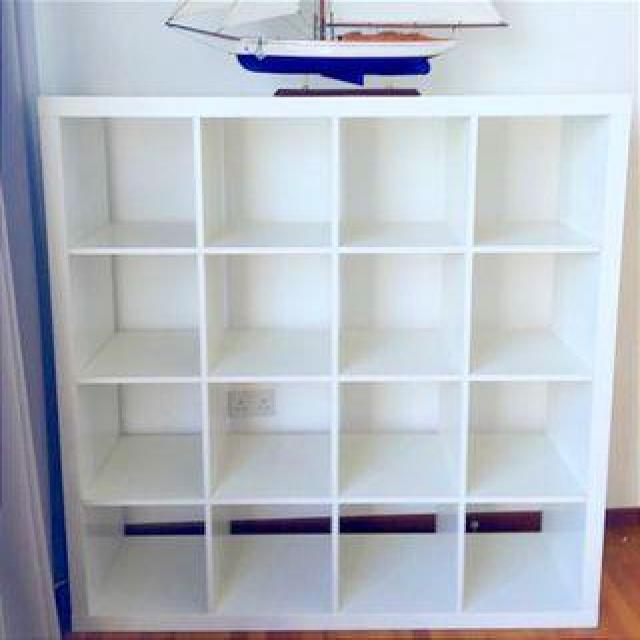Shelf: (32, 88, 640, 632)
